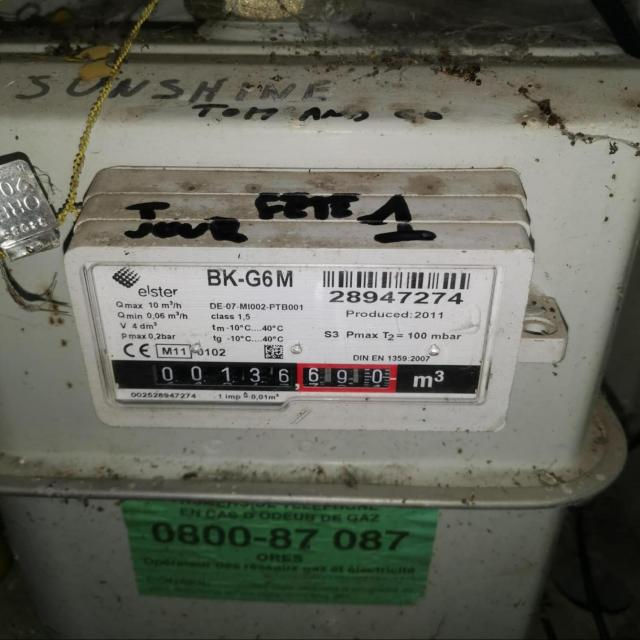gaz_meter: (76, 252, 492, 413)
indication: (138, 361, 401, 392)
